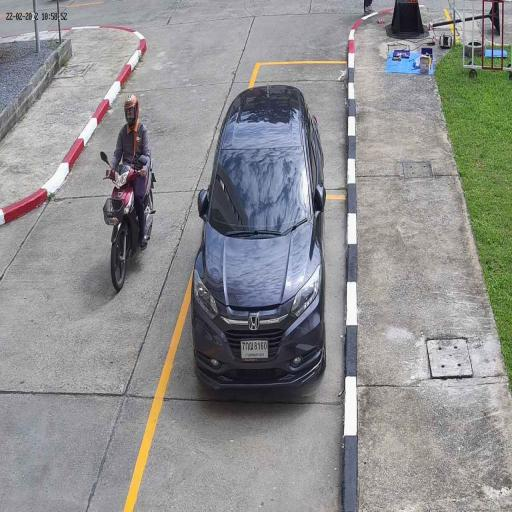car: (189, 83, 330, 391)
motorcycle: (103, 166, 155, 294)
